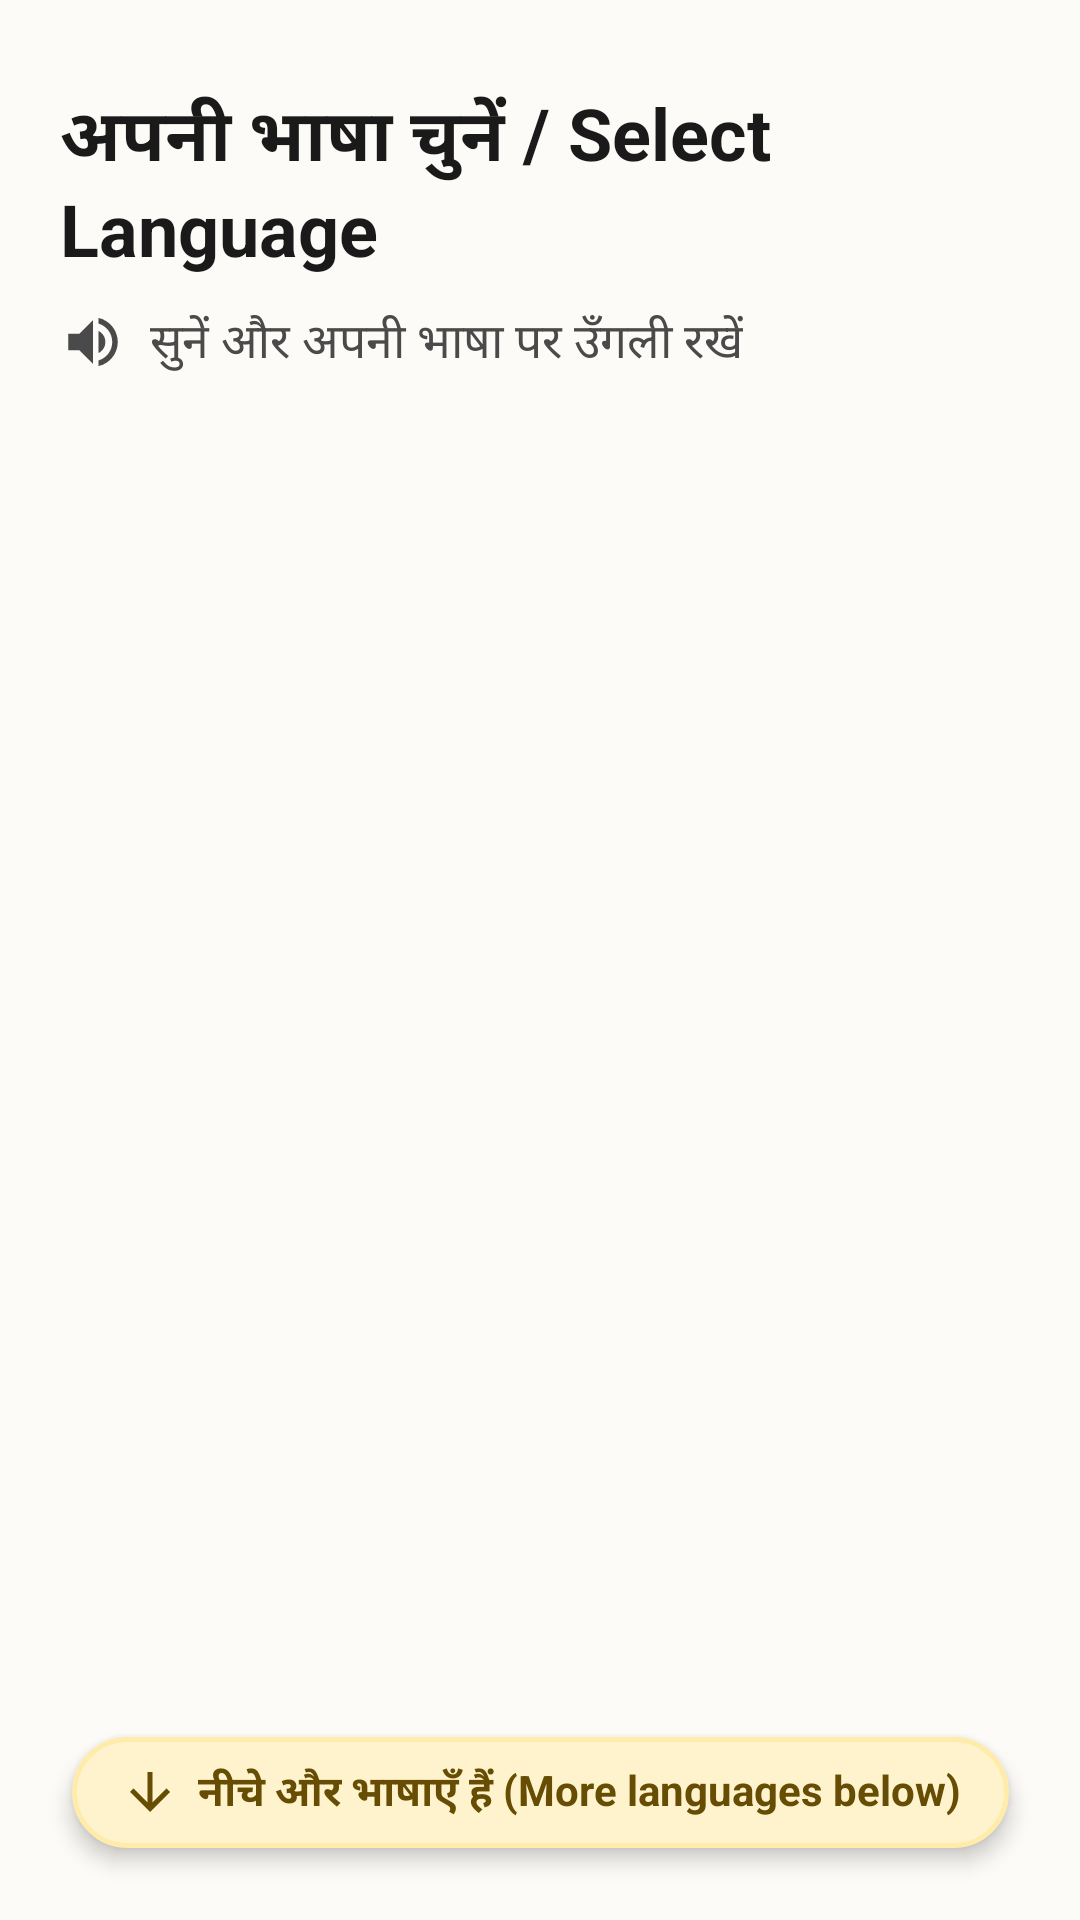

Icon click points for this 1080 x 1920 phone screenshot, format point (x, y):
Loudspeaker icon: point (93, 342)
Scroll down arrow: point (150, 1792)
